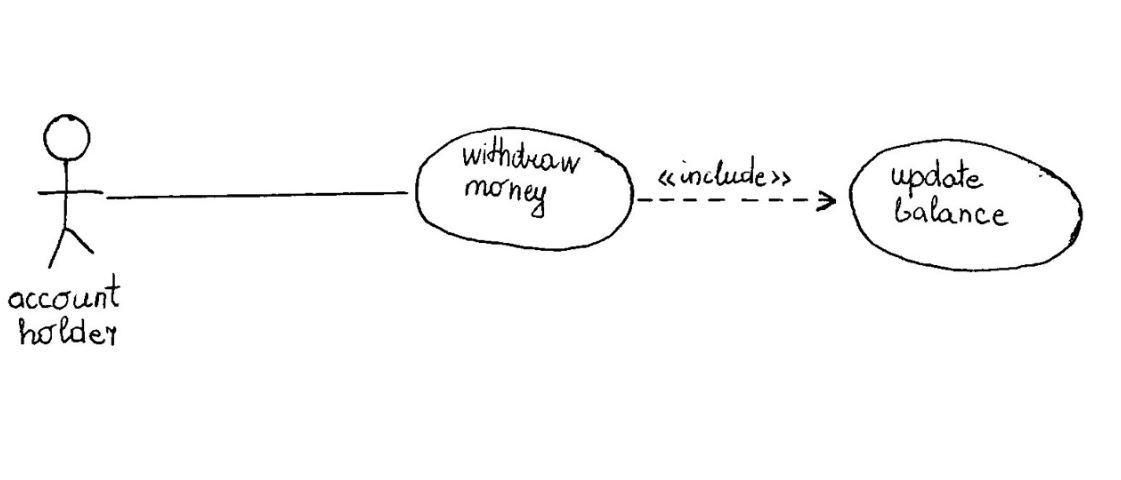actor: (26, 103, 107, 272)
association: (105, 182, 410, 203), (635, 187, 839, 218)
text: (459, 130, 580, 221), (886, 156, 1020, 232), (5, 273, 126, 349), (655, 157, 795, 192)
use_case: (842, 137, 1085, 273), (411, 121, 633, 253)
